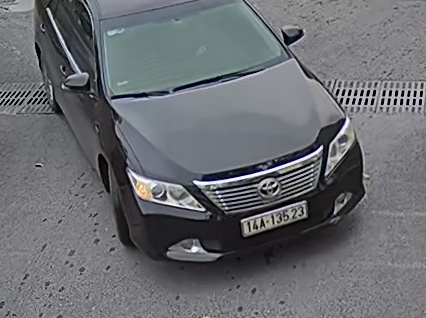vehicle plate: (236, 200, 310, 240)
